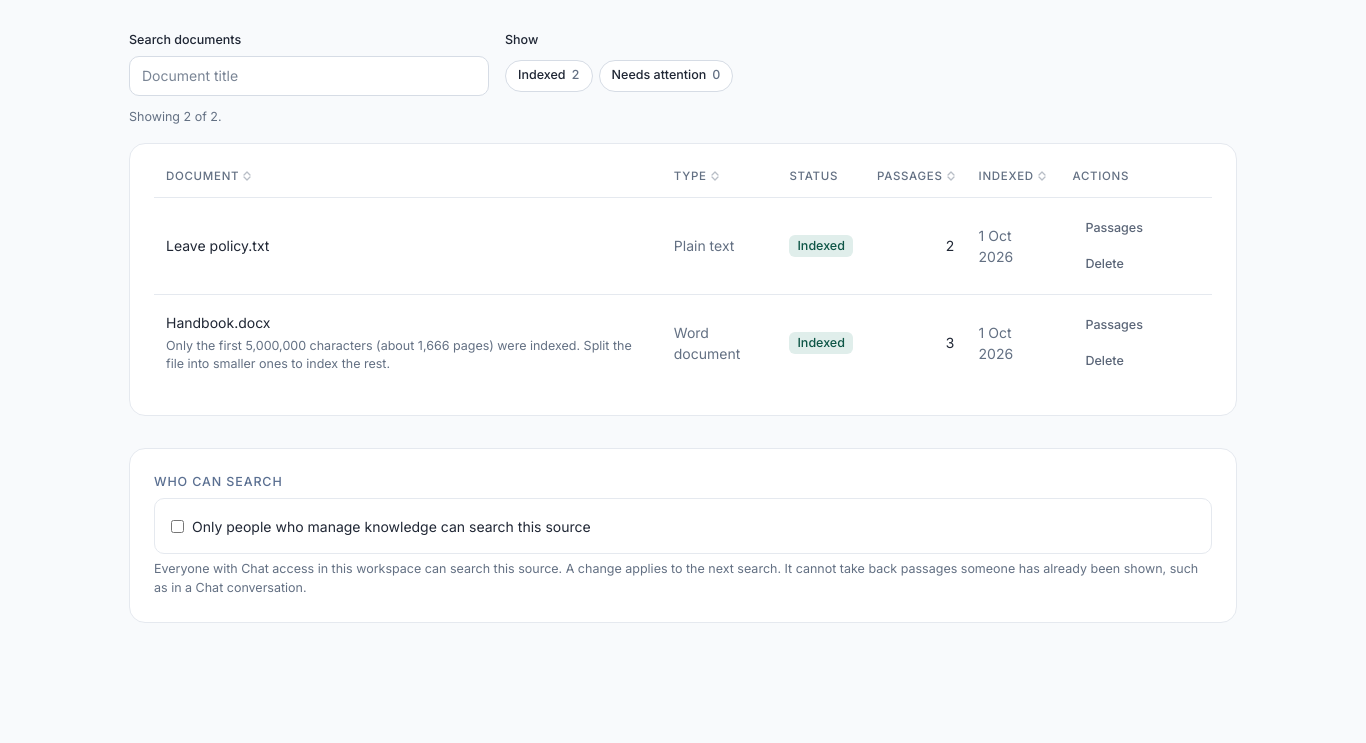
Test: SourceDetail for someone who manages knowledge › deletes a document only after asking, then says it is gone
(page scrolled)
Expected: the text "Handbook.docx" is shown, [166, 314, 270, 331]
What coordinates should you click on to do the following:
click the button with aria-label "Delete Handbook.docx"
I would click on:
 (1105, 361)
Its box is [1072, 345, 1137, 377].
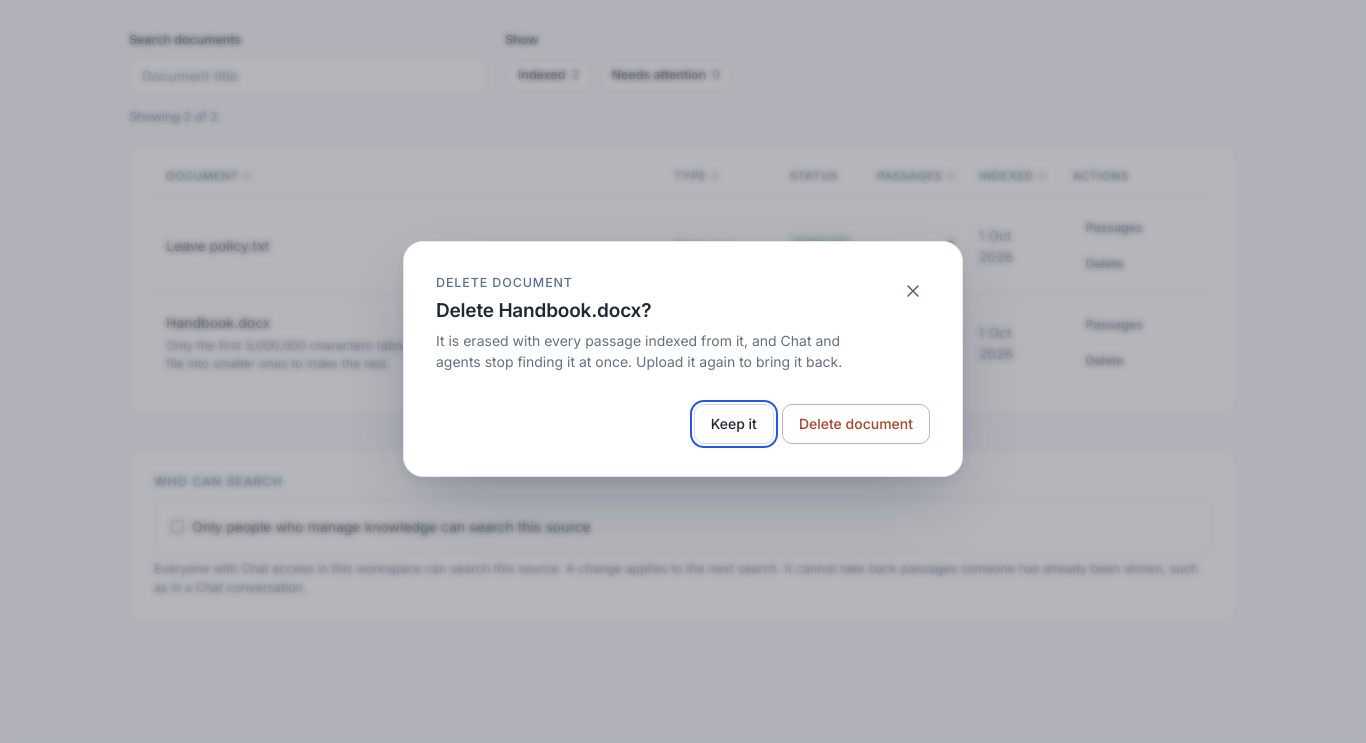
What coordinates should you click on to do the following:
click the button "Delete document"
I would click on:
 (856, 424)
Its box is [782, 404, 930, 444].
(page scrolled)
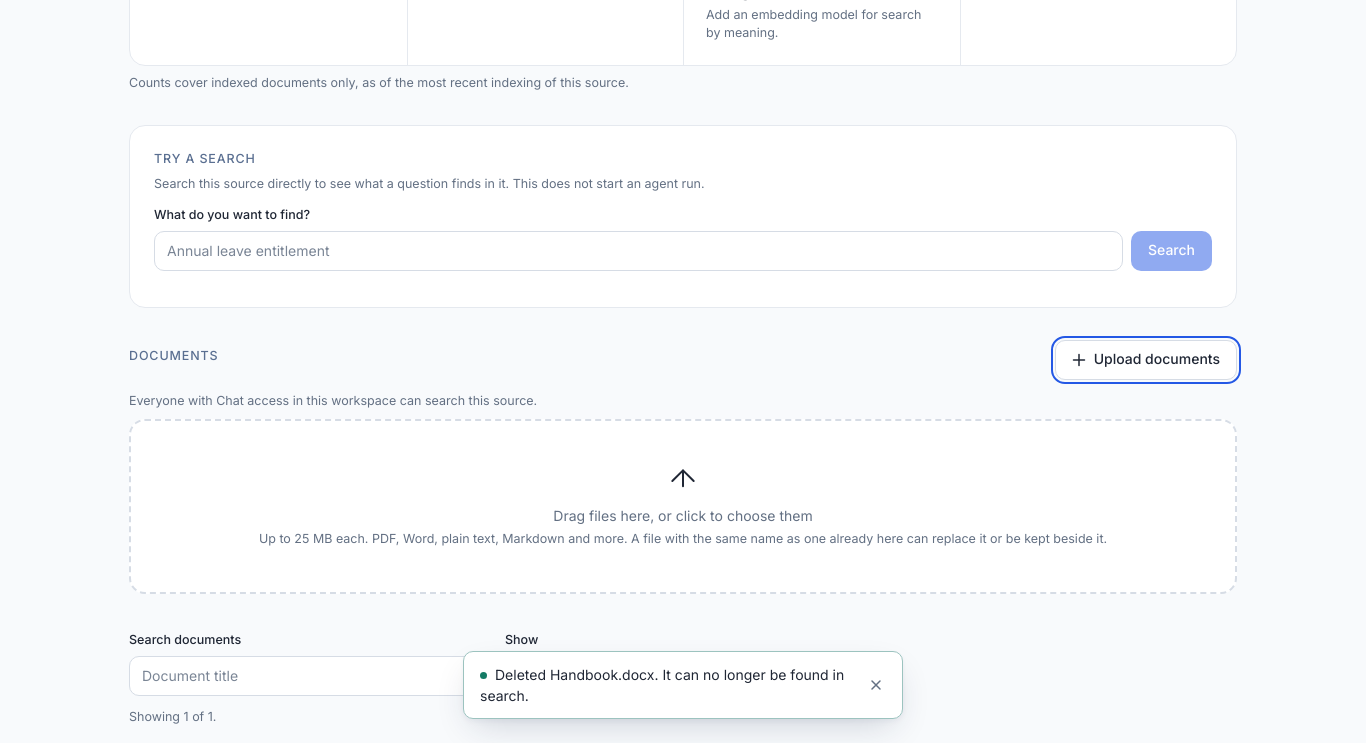
Expected: the text "Deleted Handbook.docx. It can no longer be found in search." is shown, [480, 664, 854, 706]
